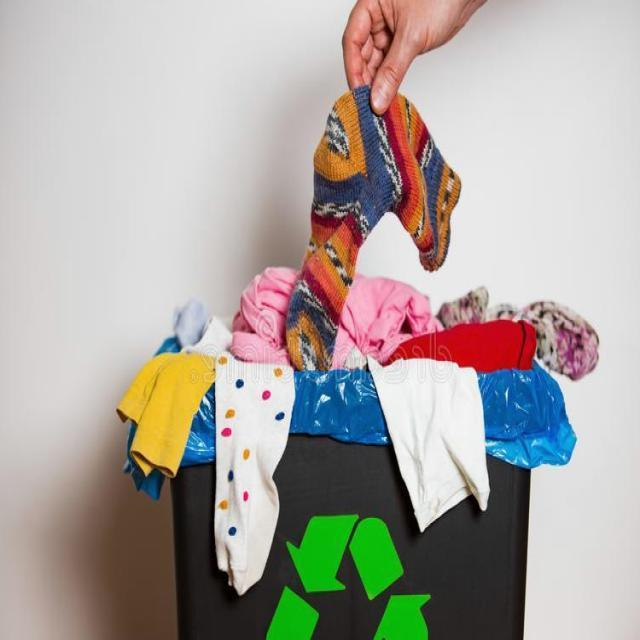clothes: (302, 118, 452, 401)
